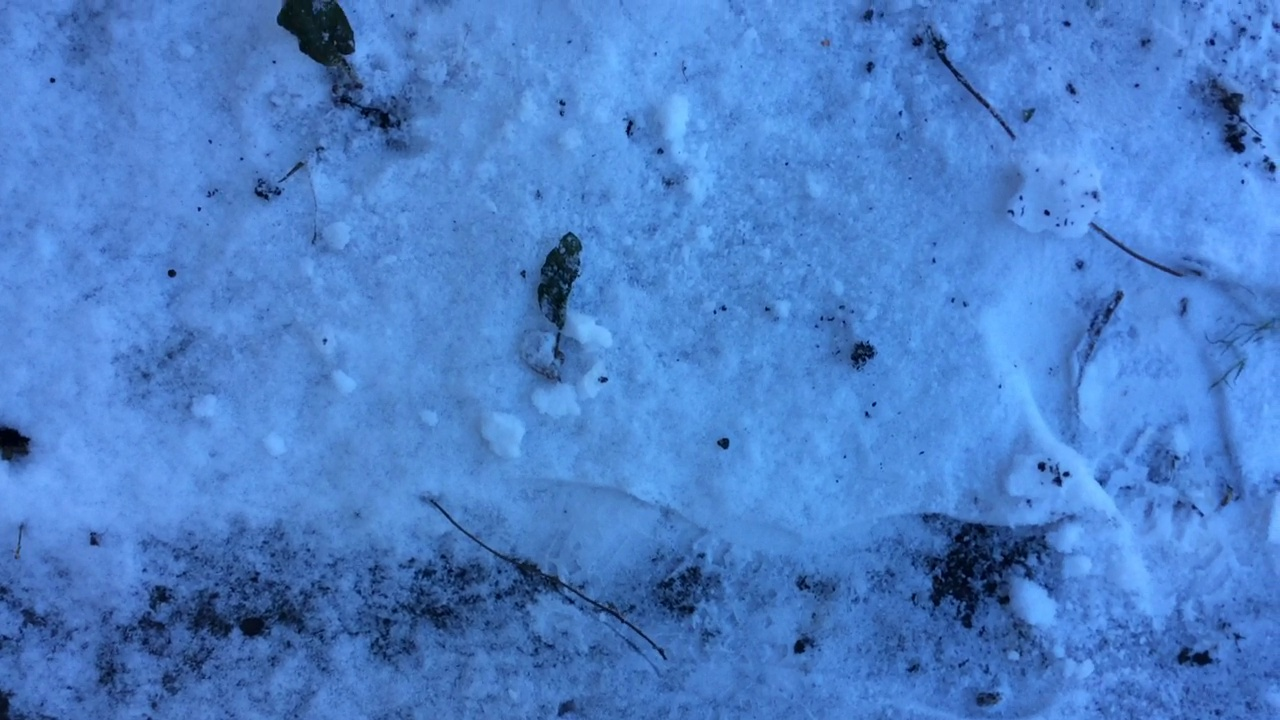root: (538, 343, 567, 378), (350, 78, 375, 112)
rumex: (271, 1, 367, 101), (533, 231, 593, 374)
